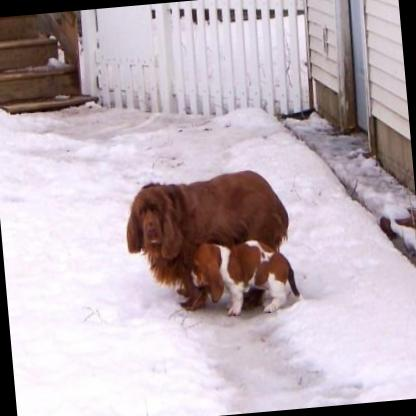Sussex_spaniel: (122, 165, 296, 316)
